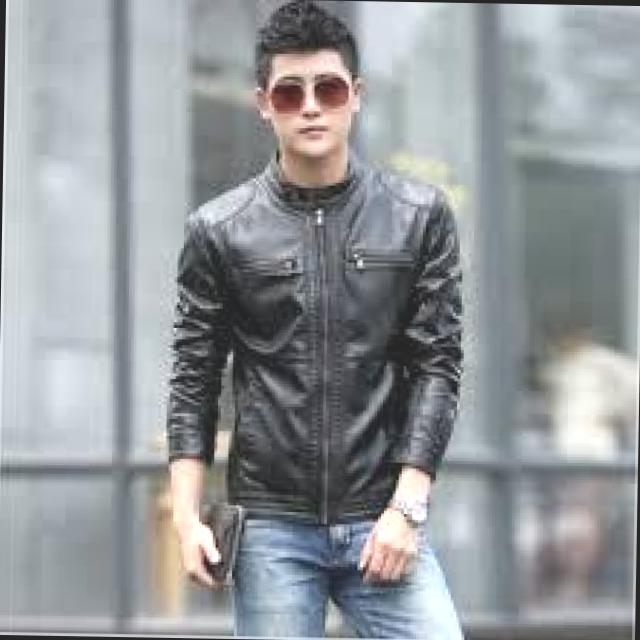jacket: (164, 164, 466, 513)
